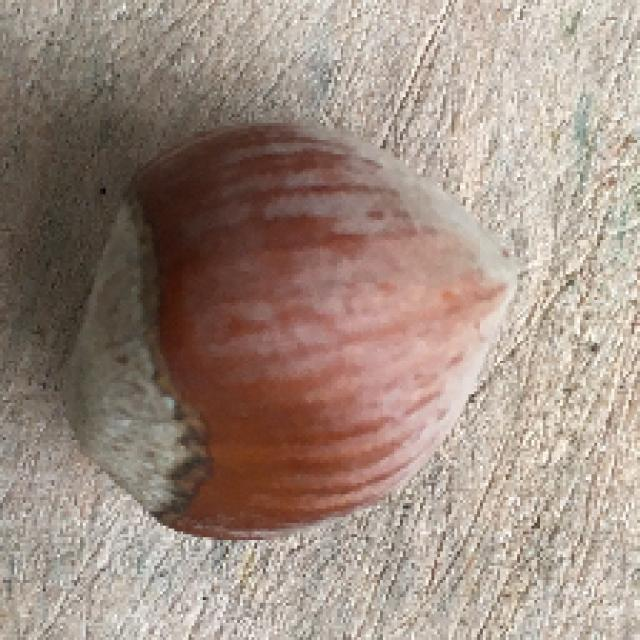qualityHazelnut: (59, 119, 520, 547)
